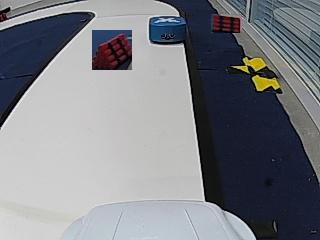prop: (149, 16, 186, 45)
